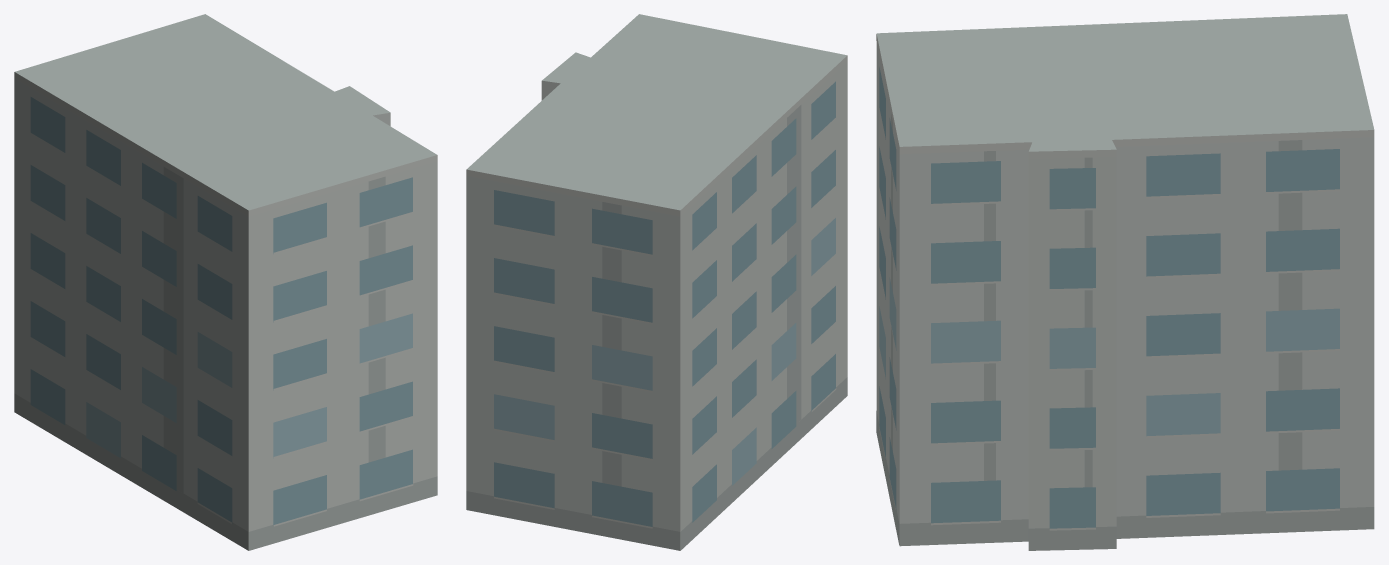
The model's file is survey-upis-32890599.glb.
3 views of the same model, side by side, from view 1: azimuth 30°, elevation 25°; view 2: azimuth 150°, elevation 25°; view 3: azimuth 270°, elevation 25° (orthographic). The views are drawn at different scales.
Visible parts, largest first — view 1: survey-upis-32890599.tmp; view 2: survey-upis-32890599.tmp; view 3: survey-upis-32890599.tmp.
Boxes of the visible parts, x1=… form: survey-upis-32890599.tmp: x1=14, y1=14, x2=437, y2=550; survey-upis-32890599.tmp: x1=466, y1=14, x2=847, y2=550; survey-upis-32890599.tmp: x1=876, y1=14, x2=1374, y2=550.
Bounding box in the file's own units: 9.77 × 13.2 × 14.93.
